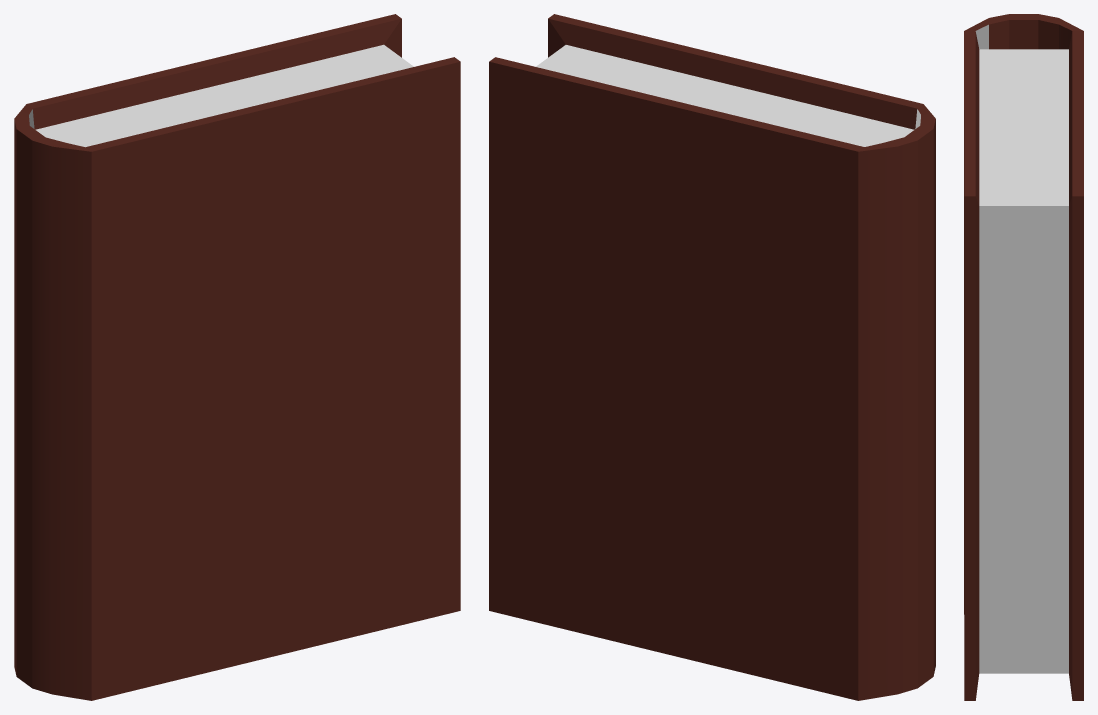
File: book.fbx
The picture shows the model from 3 angles, left to right: view 1: azimuth 30°, elevation 25°; view 2: azimuth 150°, elevation 25°; view 3: azimuth 270°, elevation 25°; orthographic projection. The views are drawn at different scales.
Parts seen in each view (by area): view 1: polySurface2; view 2: polySurface2; view 3: polySurface2.
Part boxes in pixels (left/top/right/bottom): polySurface2: left=14, top=14, right=460, bottom=700; polySurface2: left=489, top=14, right=935, bottom=700; polySurface2: left=964, top=14, right=1083, bottom=700.
Size of the model in its own units: 1.16 by 1.51 by 0.3233.
